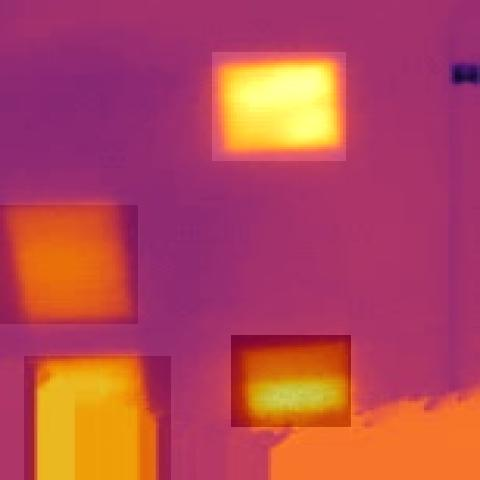fault: (24, 356, 171, 480), (0, 205, 138, 324), (212, 52, 346, 161), (232, 335, 352, 427)
